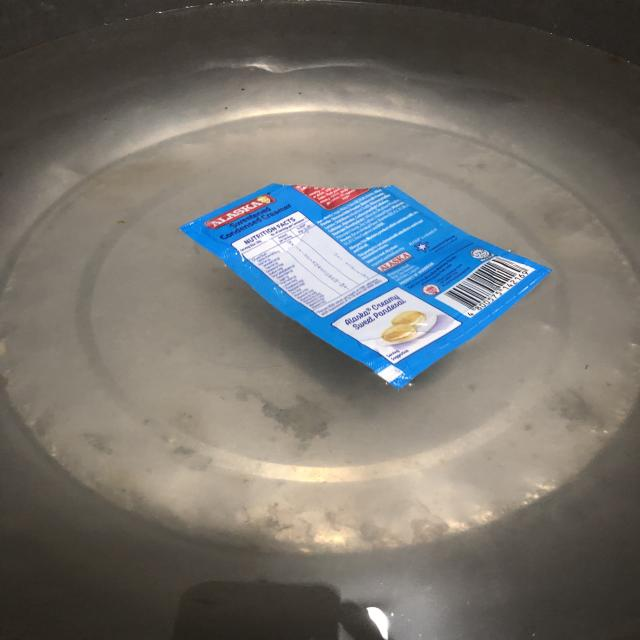Plastic Wrapper: (181, 184, 549, 388)
